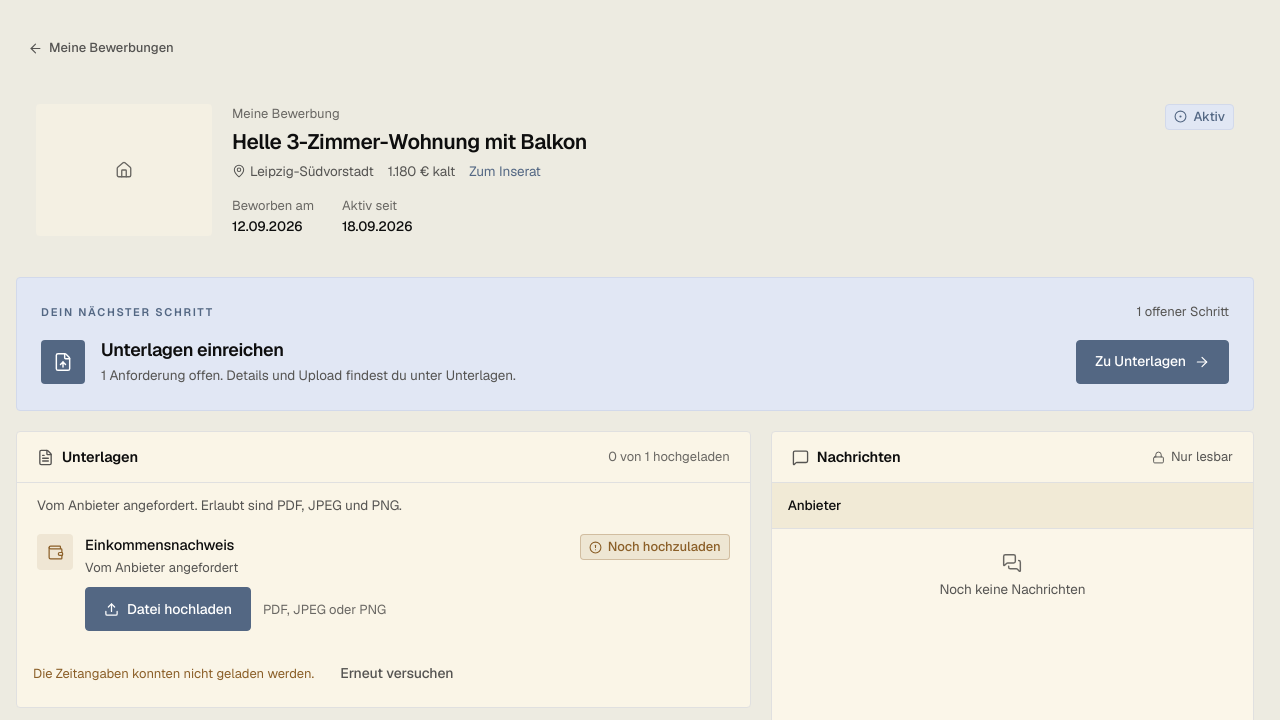
document timeline recovery › shows a controlled error and retries only the auxiliary load
Expected: the text "Die Zeitangaben konnten nicht geladen werden." is shown, [33,664,314,683]
Step 1. Click the button "Erneut versuchen" → {"x": 397, "y": 673}, box [322,651,472,695]
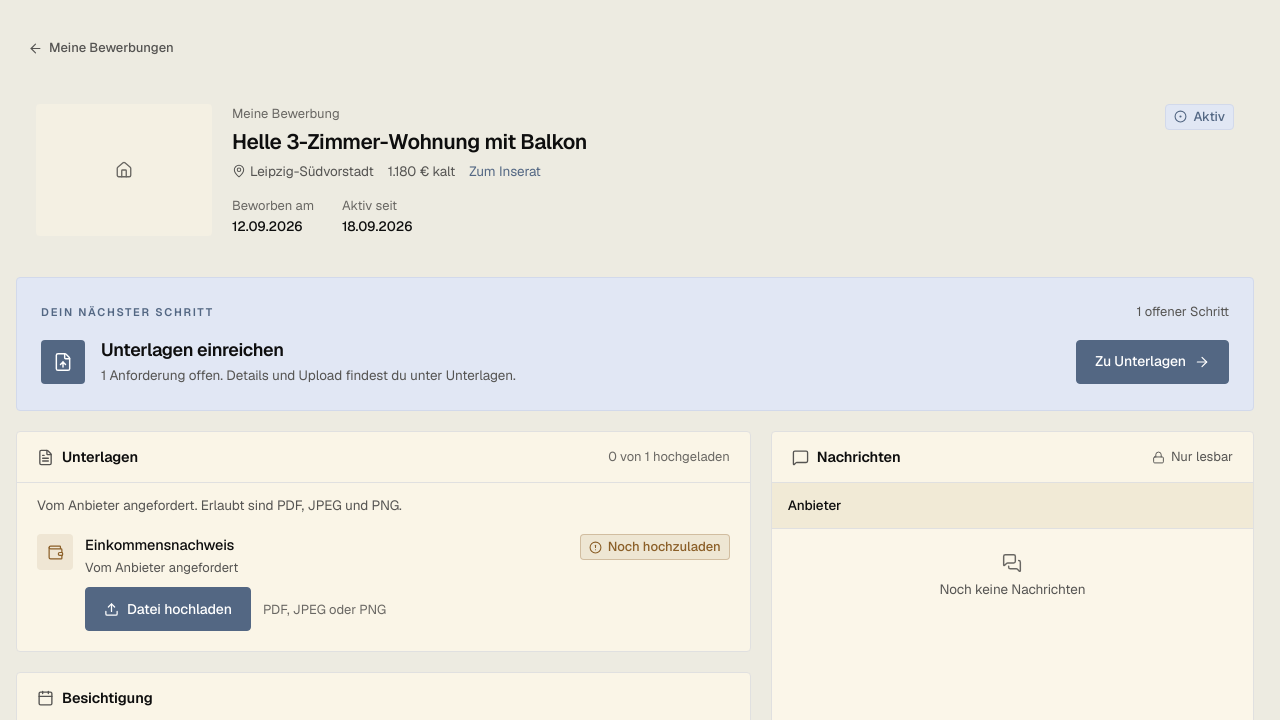
Now the text "Die Zeitangaben konnten nicht geladen werden." is gone
